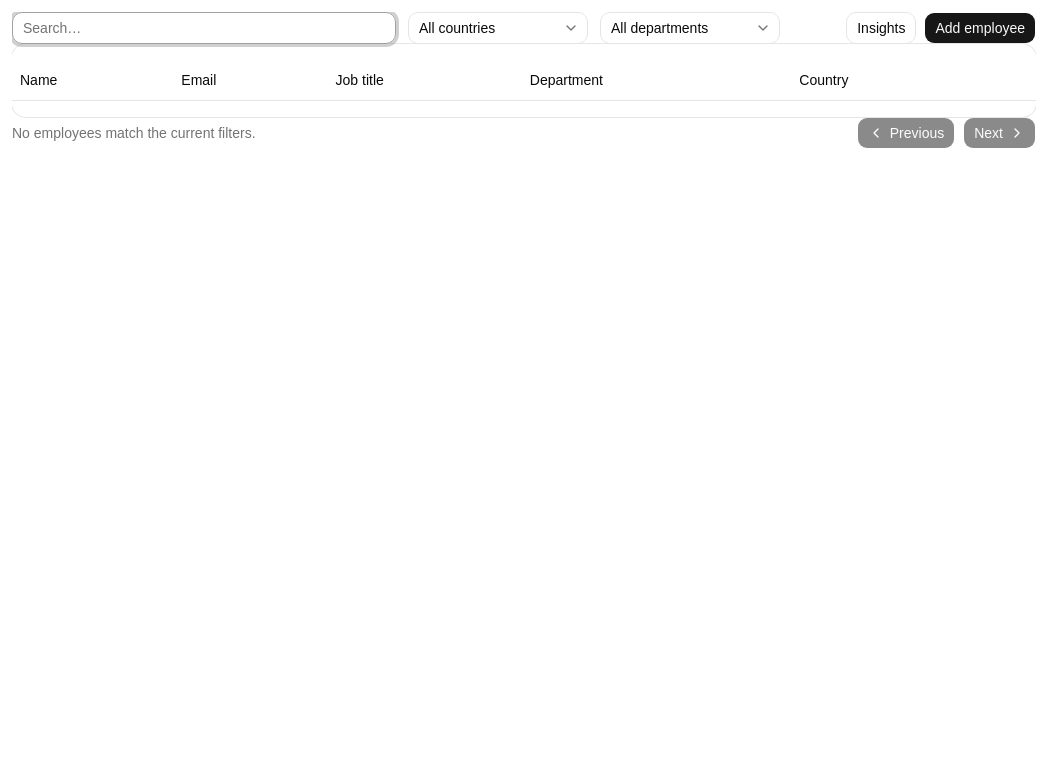
Scenario: EmployeeListPage › Add employee button navigates to new employee page
The image size is (1048, 780).
Click the button "Add employee".
click(980, 28)  # box x1=924 y1=12 x2=1036 y2=44
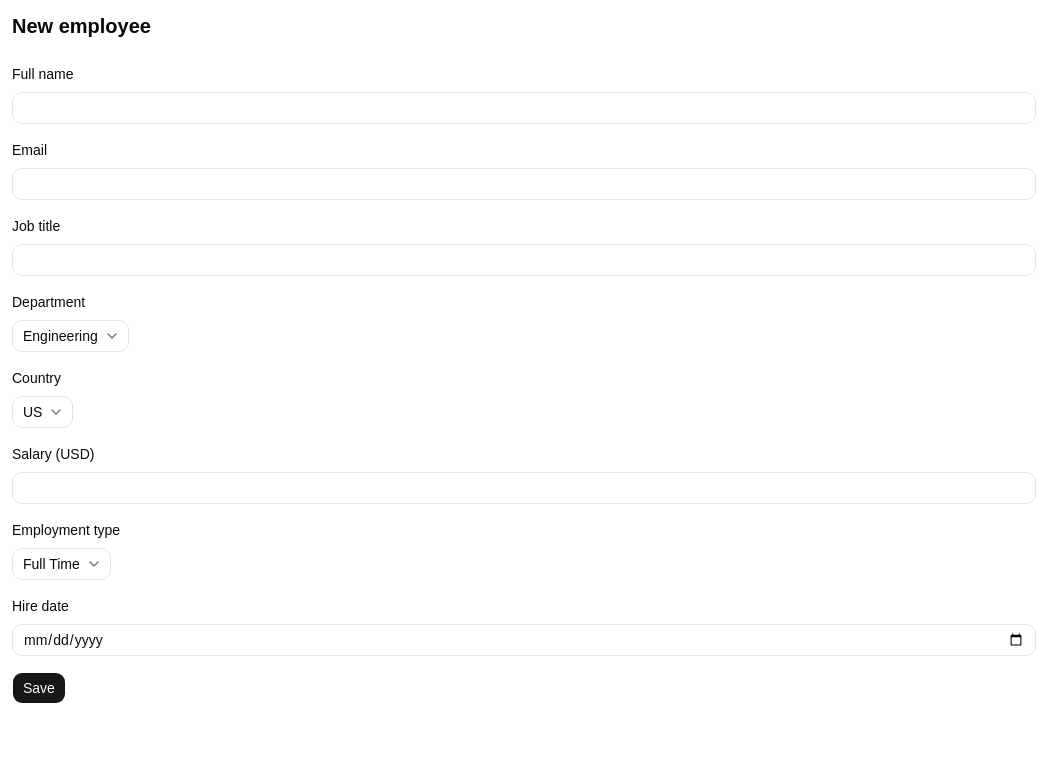
Now the heading "New employee" is shown, box x1=12 y1=15 x2=151 y2=37
